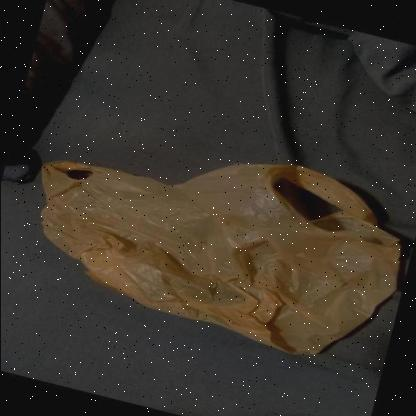Others: (37, 158, 401, 354)
